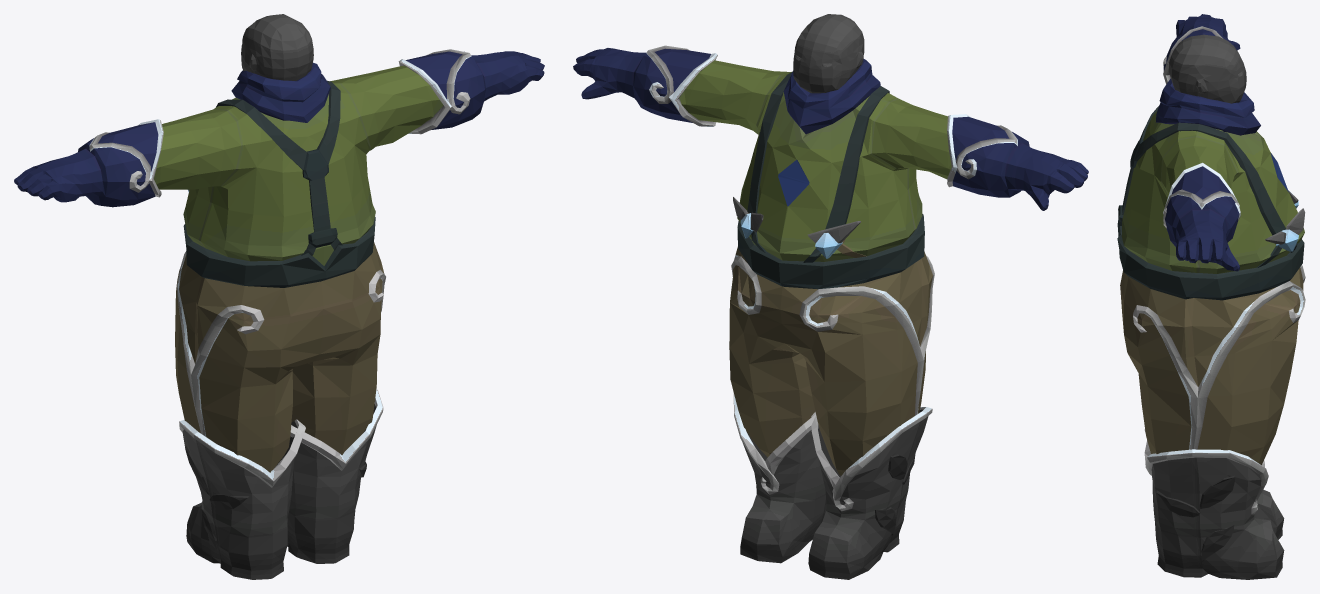
File: NPC_AP26Lumberjack.glb
The picture shows the model from 3 angles, left to right: view 1: azimuth 30°, elevation 25°; view 2: azimuth 150°, elevation 25°; view 3: azimuth 270°, elevation 25°; orthographic projection. The views are drawn at different scales.
Parts seen in each view (by area): view 1: NPC_AP26Lumberjack; view 2: NPC_AP26Lumberjack; view 3: NPC_AP26Lumberjack.
Boxes of the visible parts, box(x1,y1,x2,y2) form: NPC_AP26Lumberjack: box(14, 14, 544, 579); NPC_AP26Lumberjack: box(573, 14, 1088, 579); NPC_AP26Lumberjack: box(1117, 14, 1305, 579).
Size of the model in its own units: 14.07 by 13.86 by 4.6.
1 material, 1 textured.
